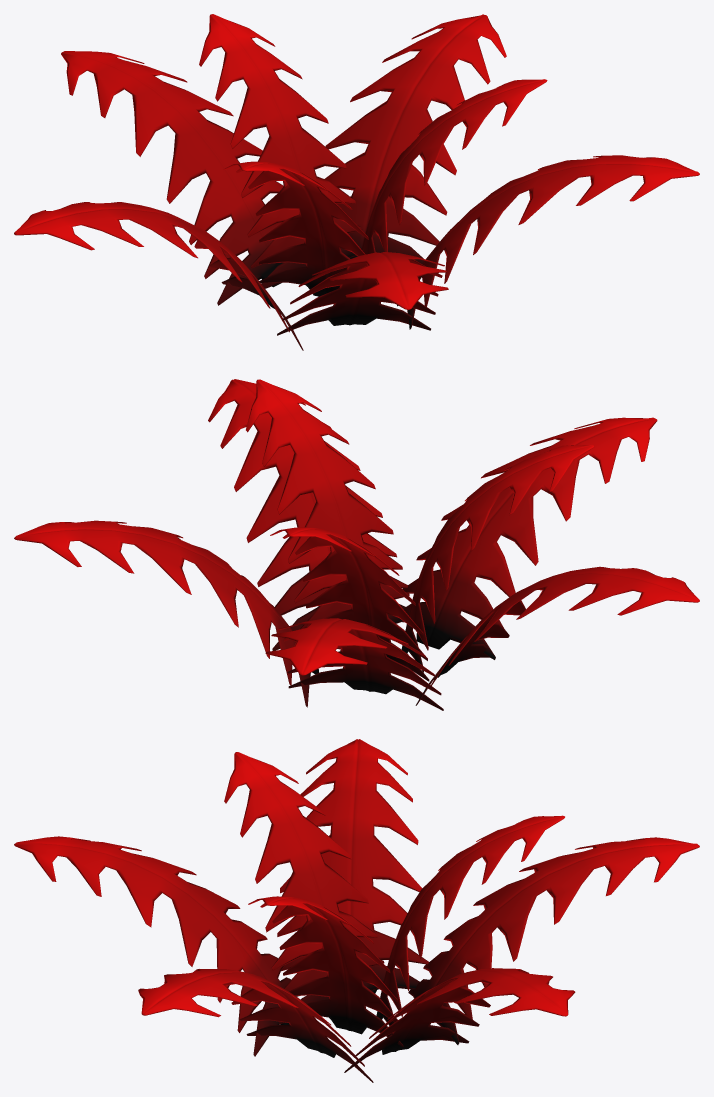
File: SMFol_Fern.fbx
3 views of the same model, one above another, from view 1: azimuth 30°, elevation 25°; view 2: azimuth 150°, elevation 25°; view 3: azimuth 270°, elevation 25° (orthographic). The views are drawn at different scales.
Visible parts, largest first — view 1: Plane.054; view 2: Plane.054; view 3: Plane.054.
Part boxes in pixels (x1,y1,x2,y2): Plane.054: (14, 14, 699, 350); Plane.054: (14, 379, 699, 710); Plane.054: (14, 739, 699, 1082).
Bounding box in the file's own units: 331 × 118 × 347.
